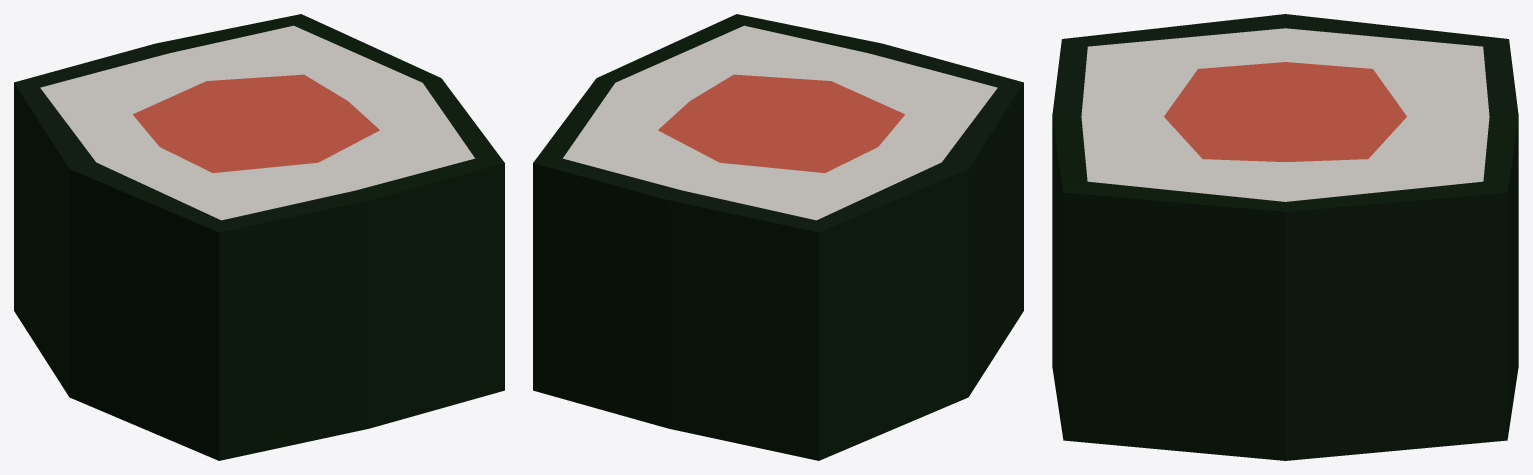
The model's file is hossomakiSalmonSlim.fbx.
3 renders of one model, left to right at view 1: azimuth 30°, elevation 25°; view 2: azimuth 150°, elevation 25°; view 3: azimuth 270°, elevation 25°, orthographic. The views are drawn at different scales.
Visible parts, largest first — view 1: hossomakiSalmonSlim; view 2: hossomakiSalmonSlim; view 3: hossomakiSalmonSlim.
Boxes of the visible parts, x1=… form: hossomakiSalmonSlim: x1=14, y1=14, x2=504, y2=460; hossomakiSalmonSlim: x1=533, y1=14, x2=1023, y2=460; hossomakiSalmonSlim: x1=1052, y1=14, x2=1518, y2=460.
Size of the model in its own units: 3.74 by 2.19 by 3.72.
1 material, 1 textured.
